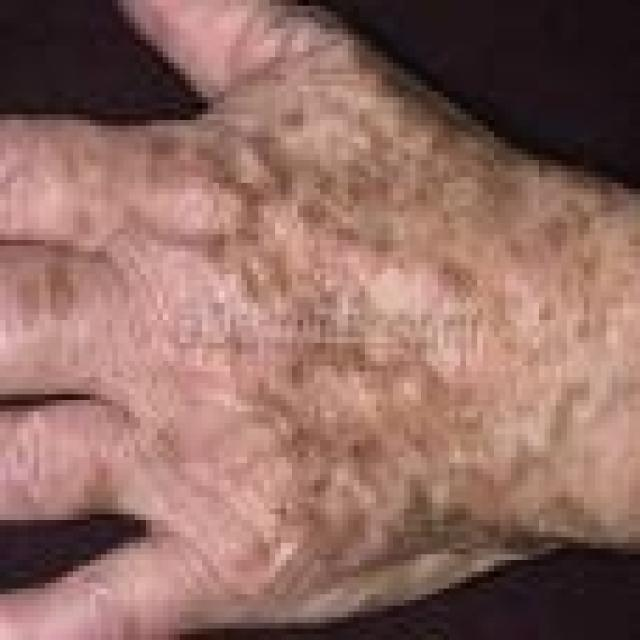Melasma: (193, 94, 613, 565)
